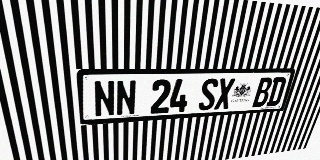2: (150, 79, 171, 114)
4: (169, 79, 190, 113)
B: (252, 77, 274, 107)
D: (266, 77, 287, 106)
N: (93, 80, 115, 117), (116, 80, 137, 116)
S: (198, 78, 219, 111)
X: (214, 78, 235, 110)
